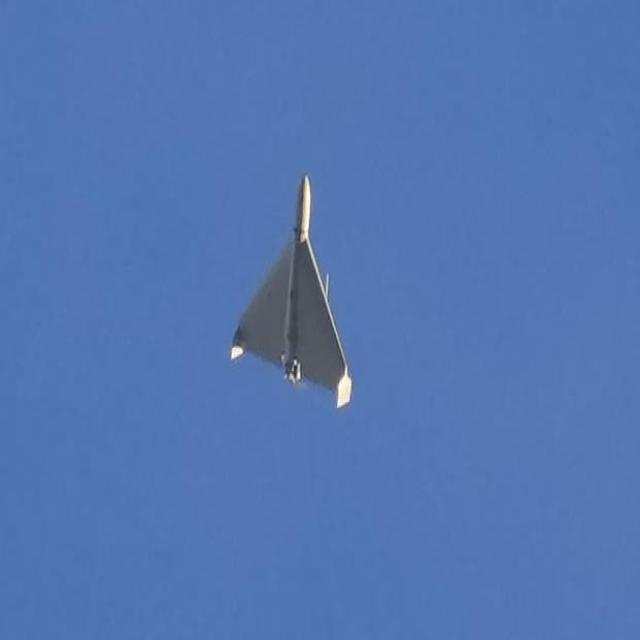iha: (226, 170, 358, 419)
